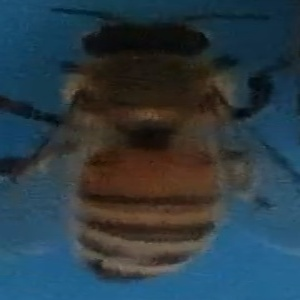bee: (2, 7, 295, 283)
